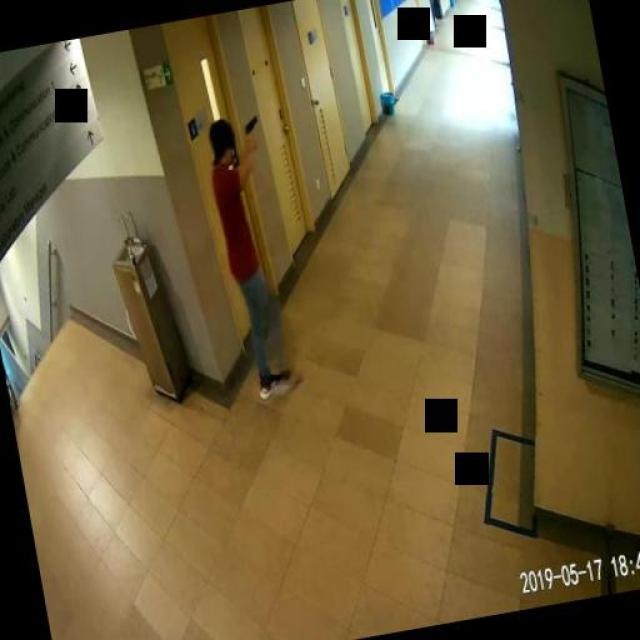gun: (241, 112, 261, 148)
